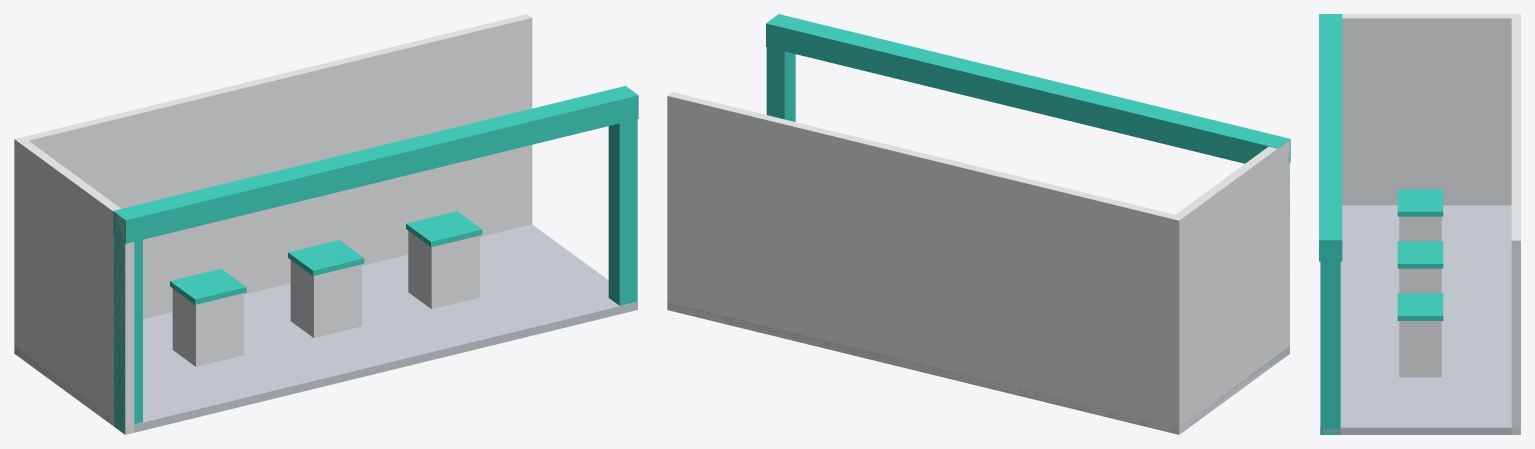
The picture shows the model from 3 angles, left to right: view 1: azimuth 30°, elevation 25°; view 2: azimuth 150°, elevation 25°; view 3: azimuth 270°, elevation 25°; orthographic projection. The views are drawn at different scales.
Parts seen in each view (by area): view 1: Exhibition Booth Concept; view 2: Exhibition Booth Concept; view 3: Exhibition Booth Concept.
Part boxes in pixels (left/top/right/bottom): Exhibition Booth Concept: left=14, top=14, right=638, bottom=434; Exhibition Booth Concept: left=667, top=14, right=1290, bottom=434; Exhibition Booth Concept: left=1319, top=14, right=1520, bottom=434.
Size of the model in its own units: 8 by 3.2 by 3.01.
